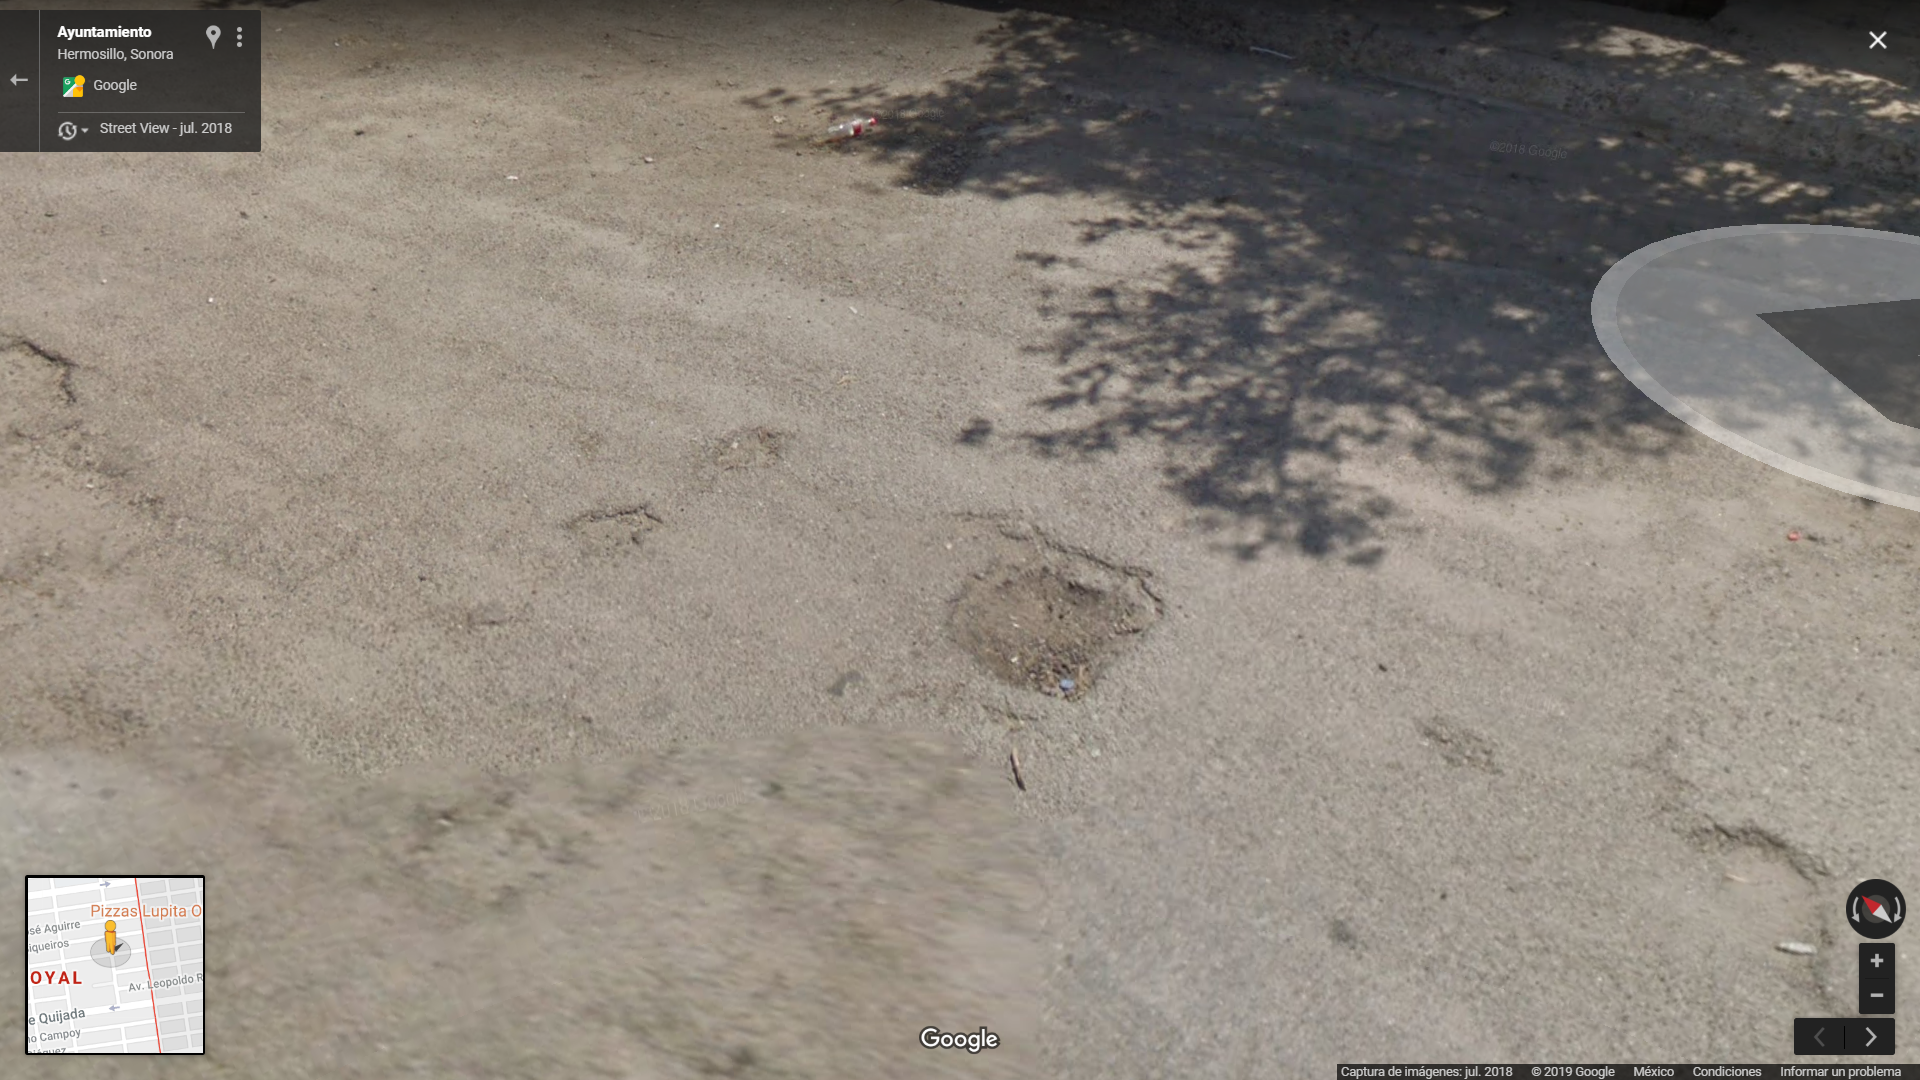pothole: (936, 525, 1170, 713)
